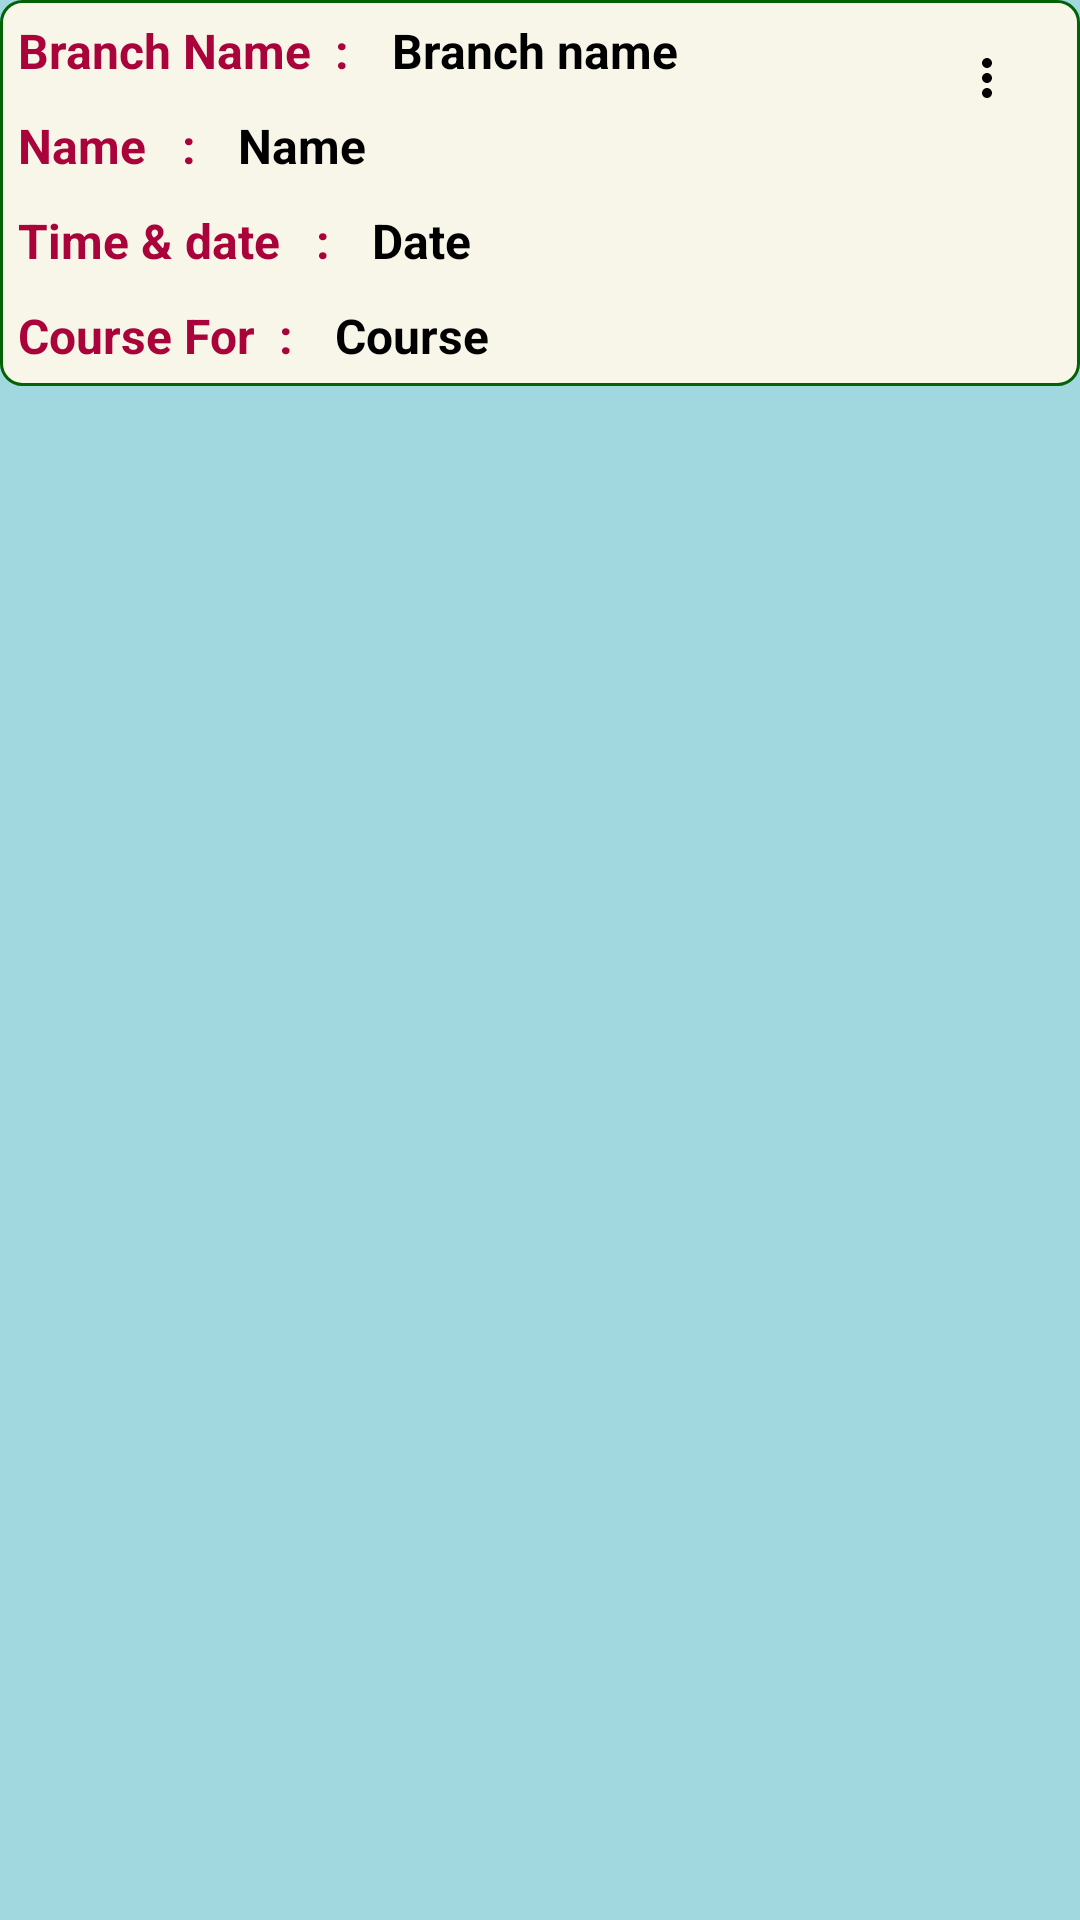

Icon bounding boxes for this 1080px×1920px phone screenshot, format detection(x1, y1, x2, y2):
menu: detection(982, 58, 992, 98)
